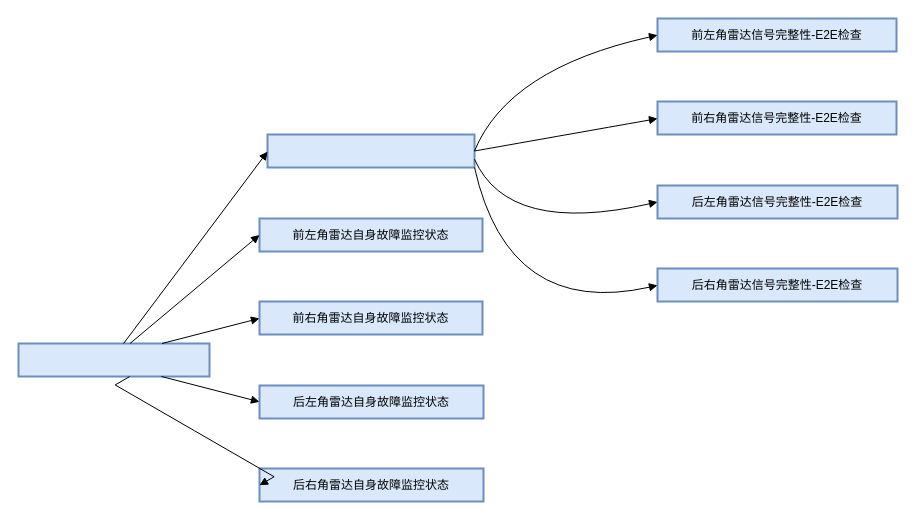
Some shapes in this 915 by 519 pixel diagram are drawn without their labels. The shapes that lost their labels are listed below. From the top down, each one's box as (x1, y1, x2, y2) in pixels, then its label:
(266, 133, 475, 168): 前雷达信号完整性-E2E检查
(17, 342, 210, 377): 前雷达自身故障监控状态
